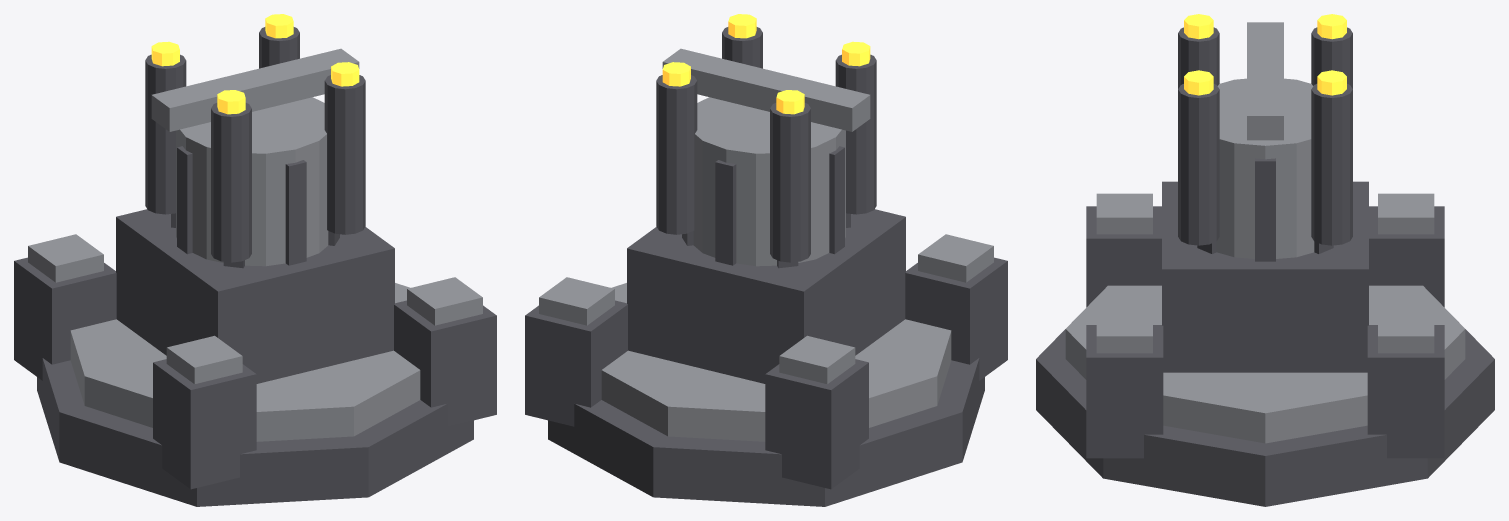
Rendered from titanforge_base.glb.
3 views of the same model, side by side, from view 1: azimuth 30°, elevation 25°; view 2: azimuth 150°, elevation 25°; view 3: azimuth 270°, elevation 25° (orthographic).
Visible parts, largest first — view 1: Cube.012, Cylinder, Cylinder.001, Cylinder.002, Cube, Cube.003, Cube.006, Cube.017, Cylinder.004, Cylinder.006, Cylinder.008, Cube.001 (+9 smaller); view 2: Cube.012, Cylinder, Cylinder.001, Cylinder.002, Cube.006, Cube.009, Cube, Cube.017, Cylinder.008, Cylinder.010, Cylinder.004, Cube.007 (+9 smaller); view 3: Cube.012, Cylinder, Cylinder.001, Cylinder.002, Cube.003, Cube.009, Cylinder.006, Cylinder.010, Cube, Cube.006, Cube.017, Cube.001 (+10 smaller).
Boxes of the visible parts, box(x1,y1,x2,y2) form: Cube.012: box(116, 209, 394, 383); Cylinder: box(37, 358, 473, 506); Cylinder.001: box(70, 283, 420, 441); Cylinder.002: box(176, 97, 328, 266); Cube: box(153, 359, 256, 489); Cube.003: box(394, 300, 496, 426); Cube.006: box(14, 257, 116, 380); Cube.017: box(151, 48, 359, 131); Cylinder.004: box(211, 103, 251, 262); Cylinder.006: box(324, 75, 365, 234); Cylinder.008: box(145, 54, 186, 214); Cube.001: box(166, 335, 242, 384); Cube.012: box(627, 209, 905, 383); Cylinder: box(548, 358, 984, 506); Cylinder.001: box(601, 283, 951, 441); Cylinder.002: box(693, 97, 845, 266); Cube.006: box(765, 359, 868, 489); Cube.009: box(525, 300, 627, 426); Cube: box(905, 257, 1007, 380); Cube.017: box(662, 48, 870, 131); Cylinder.008: box(770, 103, 810, 262); Cylinder.010: box(656, 75, 697, 234); Cylinder.004: box(835, 54, 876, 214); Cube.007: box(779, 335, 855, 384); Cube.012: box(1162, 181, 1368, 372); Cylinder: box(1036, 329, 1494, 506); Cylinder.001: box(1065, 285, 1465, 443); Cylinder.002: box(1216, 78, 1314, 258); Cube.003: box(1086, 325, 1163, 458); Cube.009: box(1367, 325, 1444, 458); Cylinder.006: box(1178, 84, 1219, 245); Cylinder.010: box(1311, 84, 1352, 245); Cube: box(1086, 206, 1161, 307); Cube.006: box(1369, 206, 1444, 307); Cube.017: box(1247, 22, 1283, 140); Cube.001: box(1096, 193, 1152, 234).
Size of the model in its own units: 3.1 by 2.69 by 3.1.
